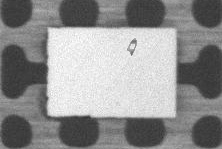DIE_INK: (126, 37, 138, 55)
